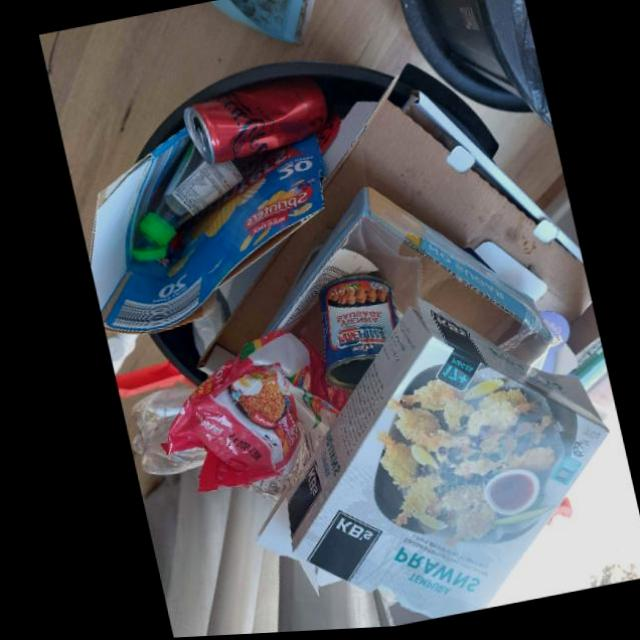carton: (245, 301, 604, 623), (192, 95, 587, 375), (255, 190, 548, 369), (86, 128, 322, 335)
chai_nhua: (127, 143, 240, 261)
nhom: (181, 78, 326, 166), (313, 277, 393, 393)
tui_ni_long: (153, 334, 346, 504)
